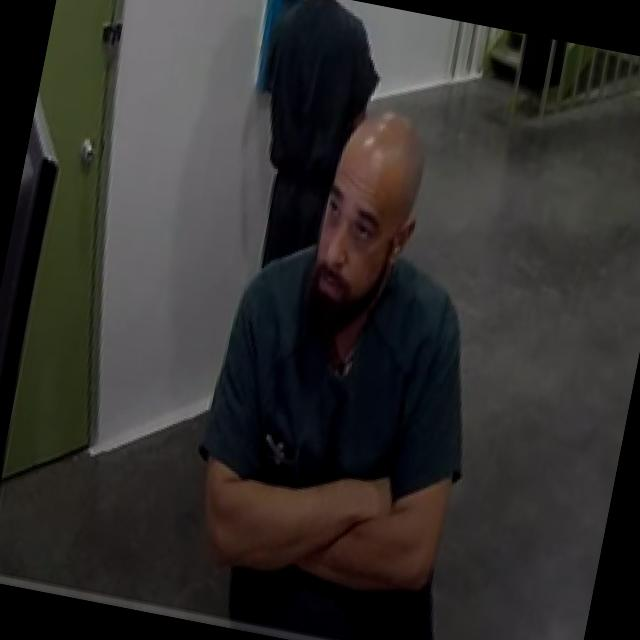person: (169, 89, 533, 640), (230, 0, 393, 281)
